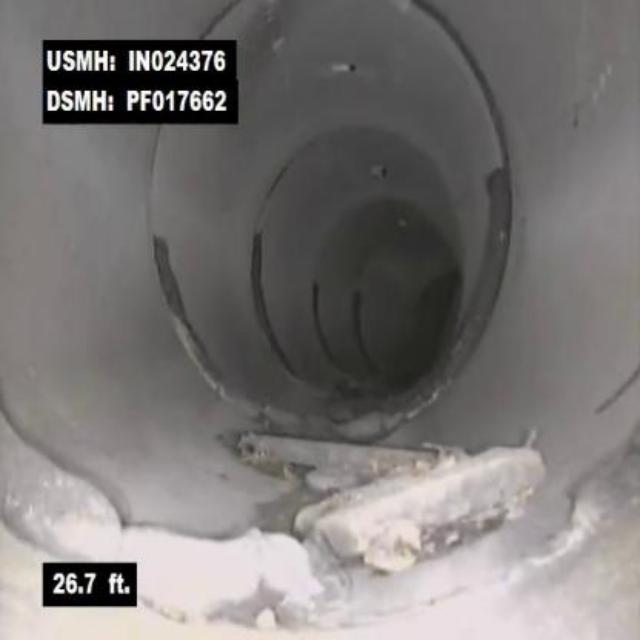Debris: (231, 400, 557, 588)
